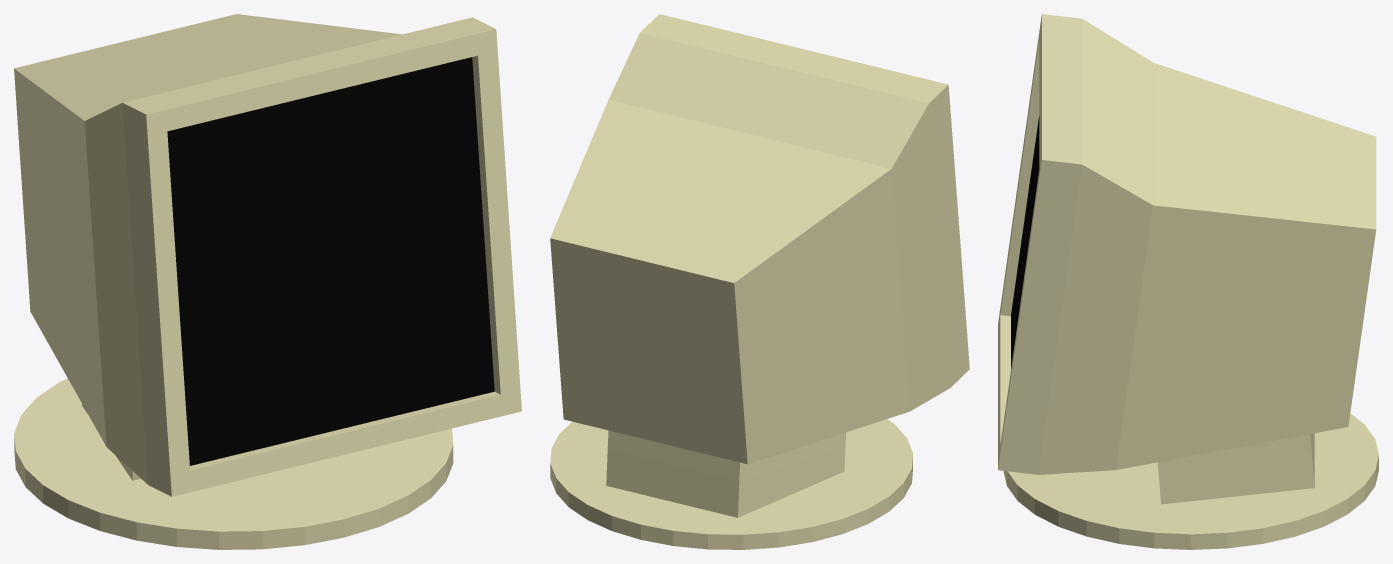
Rendered from PC_asset.glb.
3 views of the same model, side by side, from view 1: azimuth 30°, elevation 25°; view 2: azimuth 150°, elevation 25°; view 3: azimuth 270°, elevation 25° (orthographic). The views are drawn at different scales.
Visible parts, largest first — view 1: Cylinder; view 2: Cylinder; view 3: Cylinder.
Part boxes in pixels (x1,y1,x2,y2): Cylinder: (14,14,521,549); Cylinder: (550,14,969,549); Cylinder: (998,14,1378,549).
Size of the model in its own units: 4 by 4.51 by 4.06.
